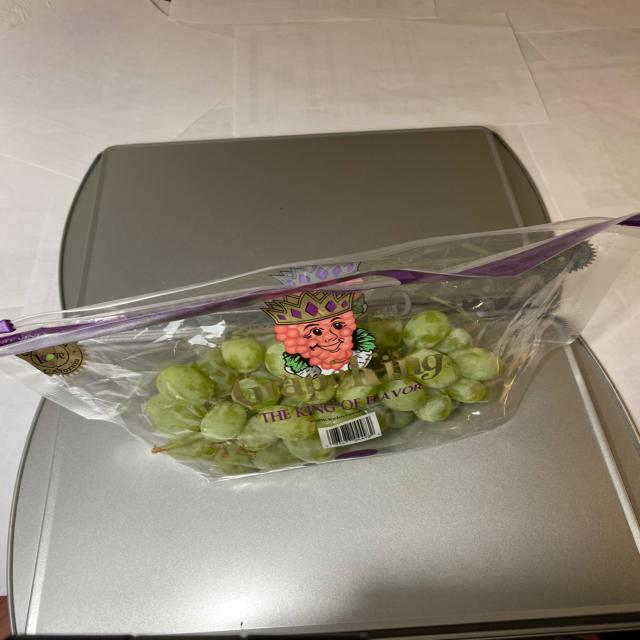grapes: (133, 302, 542, 477)
